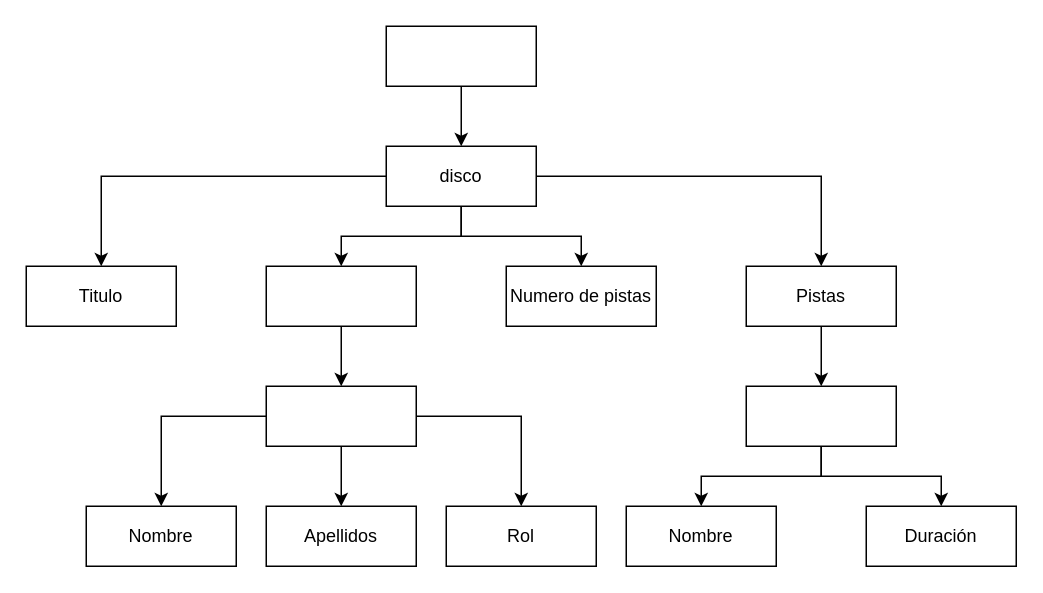
Image size: 1043x593. Some labels were removed from this diagram. Here are the shapes that lost their labels. From the top down, the centre of each, then its label:
At pixel 460 55: "discográfica".
At pixel 340 295: "Interpretes".
At pixel 340 415: "Interprete".
At pixel 820 415: "Pista".
